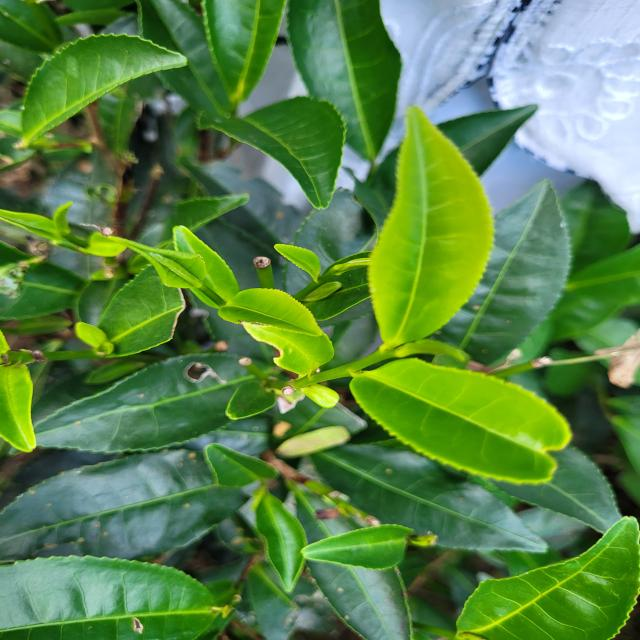Catagory A(1-2 days): (359, 94, 502, 350)
